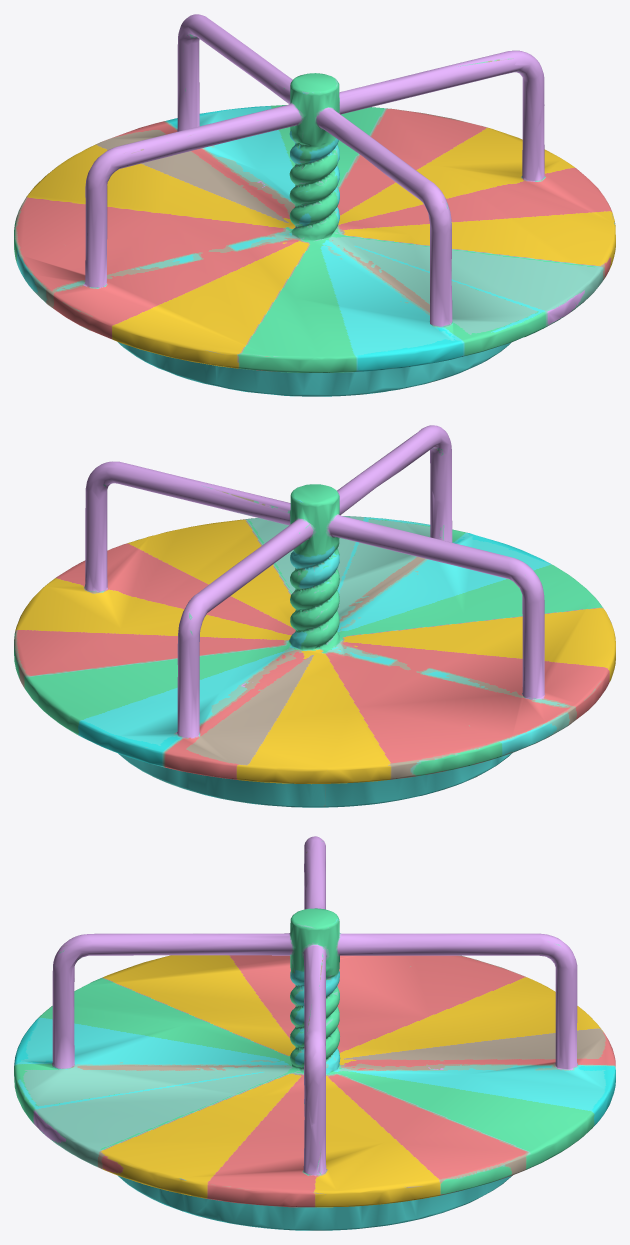
File: play_merry.glb
3 views of the same model, one above another, from view 1: azimuth 30°, elevation 25°; view 2: azimuth 150°, elevation 25°; view 3: azimuth 270°, elevation 25° (orthographic).
Parts seen in each view (by area): view 1: Mesh_0; view 2: Mesh_0; view 3: Mesh_0.
Part boxes in pixels (x1,y1,x2,y2): Mesh_0: [14, 14, 615, 396]; Mesh_0: [14, 425, 615, 807]; Mesh_0: [14, 836, 615, 1230].
Size of the model in its own units: 1.9 by 0.7771 by 1.9.
1 material, 1 textured.
